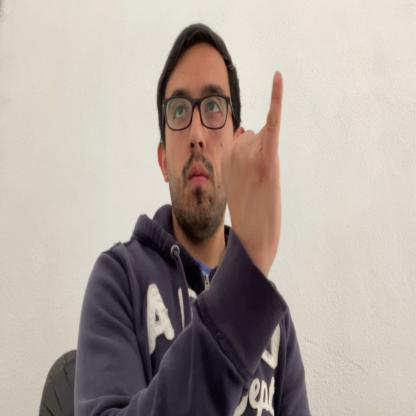I: (220, 70, 282, 259)
